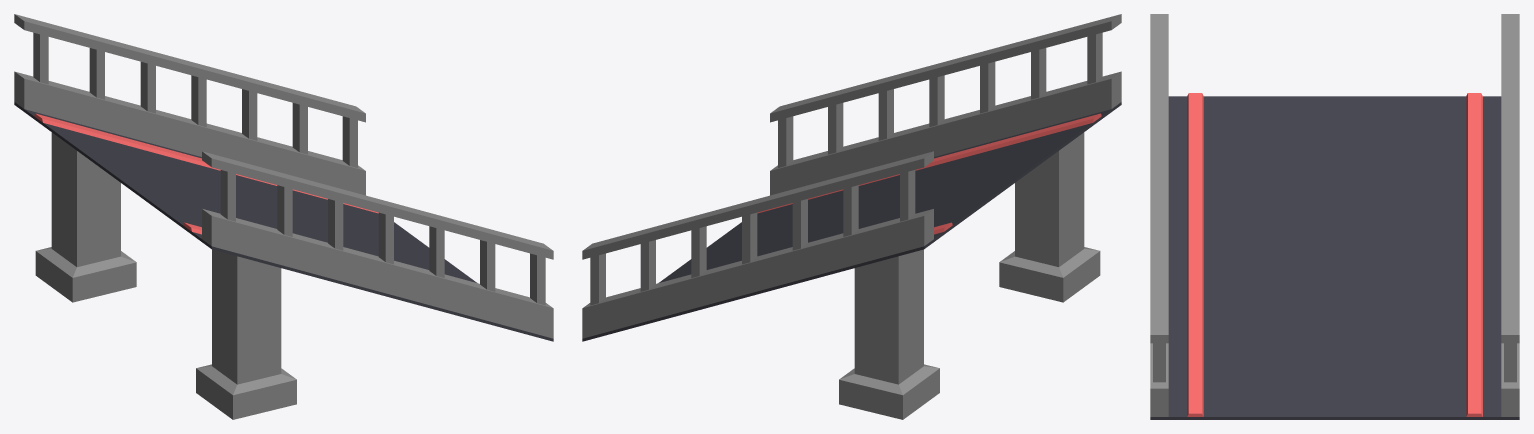
The model's file is kartkids_base_trk_410_brg_exit_1x1.glb.
The picture shows the model from 3 angles, left to right: view 1: azimuth 30°, elevation 25°; view 2: azimuth 150°, elevation 25°; view 3: azimuth 270°, elevation 25°; orthographic projection. The views are drawn at different scales.
Visible parts, largest first — view 1: kartkids_base_trk_020_trn_90_l_1x1.012, 1.005, kartkids_base_trk_020_trn_90_l_1x1.036, kartkids_base_trk_010_rd_straight_1x1.030; view 2: kartkids_base_trk_020_trn_90_l_1x1.012, 1.005, kartkids_base_trk_020_trn_90_l_1x1.036, kartkids_base_trk_010_rd_straight_1x1.030; view 3: kartkids_base_trk_010_rd_straight_1x1.030, kartkids_base_trk_020_trn_90_l_1x1.036, kartkids_base_trk_020_trn_90_l_1x1.012.
Boxes of the visible parts, x1,y1,x2,y2 form: kartkids_base_trk_020_trn_90_l_1x1.012: (14,71,553,338); 1.005: (35,132,296,419); kartkids_base_trk_020_trn_90_l_1x1.036: (14,14,553,305); kartkids_base_trk_010_rd_straight_1x1.030: (14,102,553,341); kartkids_base_trk_020_trn_90_l_1x1.012: (582,71,1121,338); 1.005: (839,132,1100,419); kartkids_base_trk_020_trn_90_l_1x1.036: (582,14,1121,305); kartkids_base_trk_010_rd_straight_1x1.030: (582,102,1121,341); kartkids_base_trk_010_rd_straight_1x1.030: (1150,93,1519,419); kartkids_base_trk_020_trn_90_l_1x1.036: (1150,14,1519,382); kartkids_base_trk_020_trn_90_l_1x1.012: (1150,343,1519,416).
Size of the model in its own units: 10 by 7.46 by 10.
